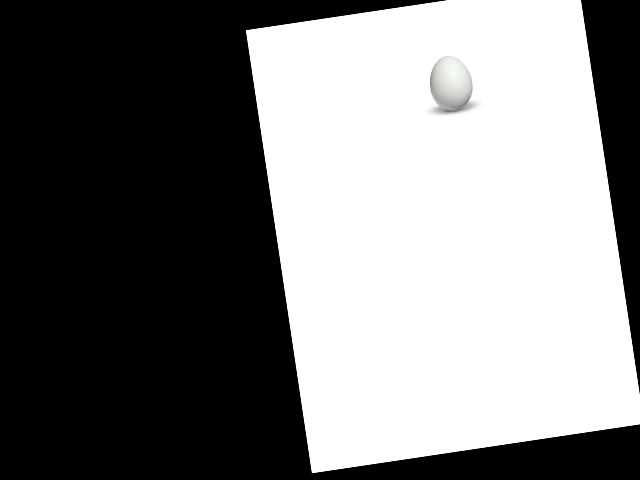egg: (426, 52, 476, 113)
